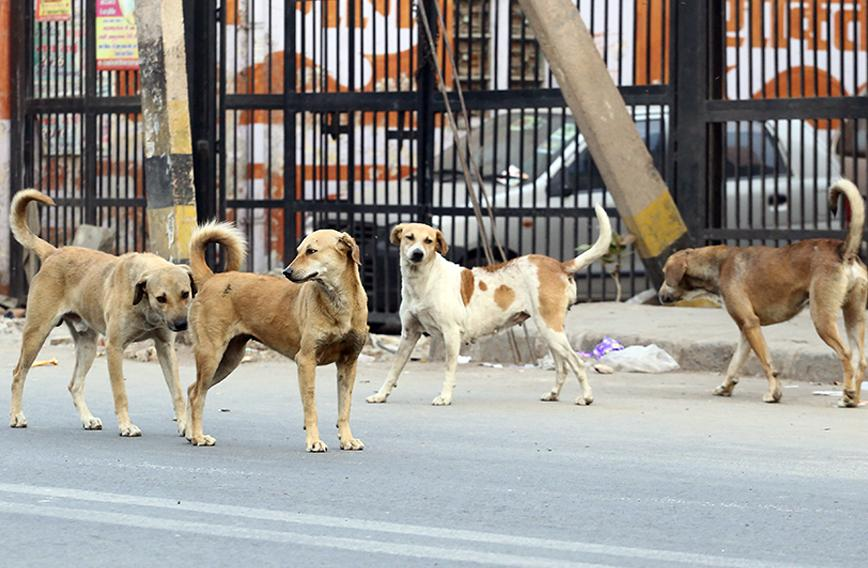Dog: (5, 186, 202, 456), (171, 217, 393, 455), (651, 181, 868, 418), (377, 214, 614, 410)
